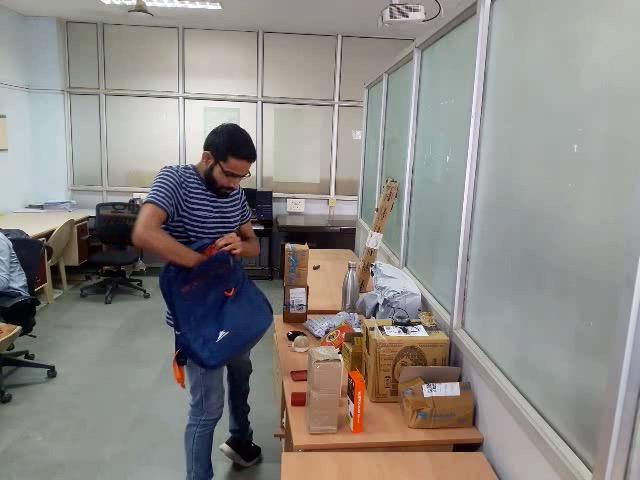shoplifting: (118, 222, 344, 373)
